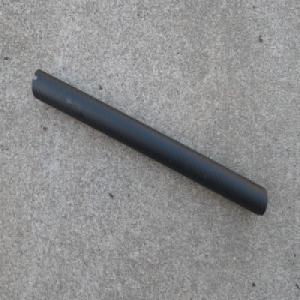LuggagePart: (31, 68, 268, 216)
